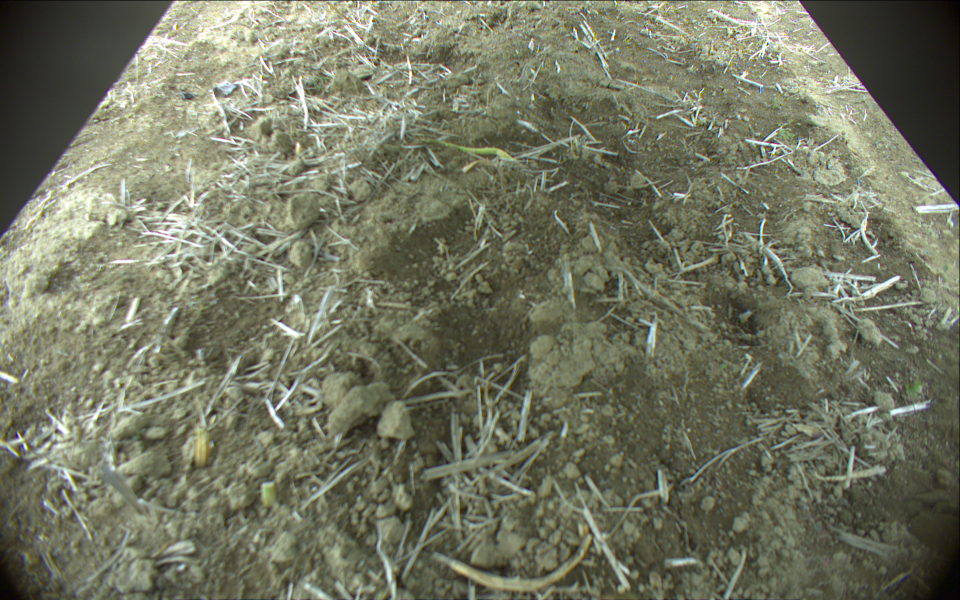aspa: (423, 135, 515, 165)
